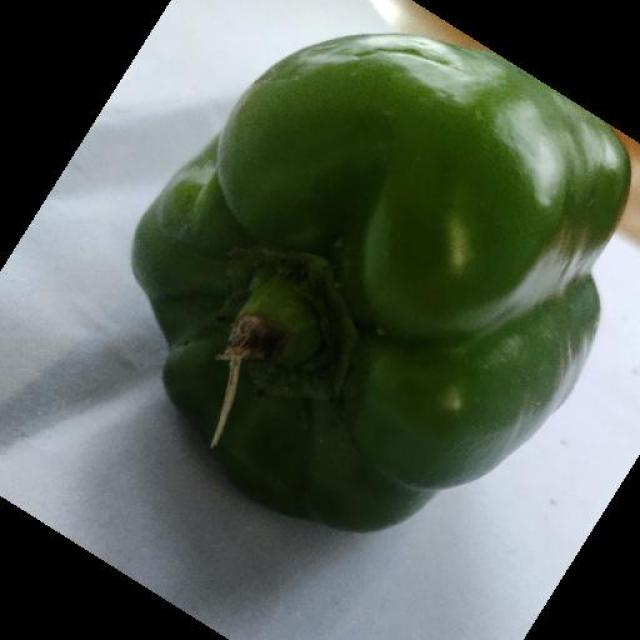Fresh_Capsicum: (162, 44, 614, 492)
